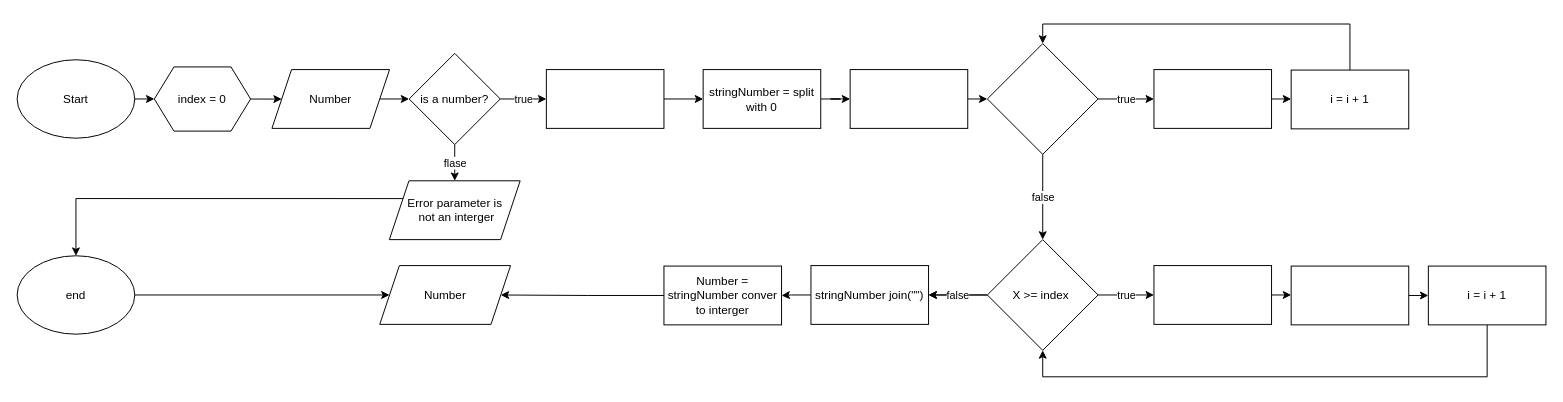
This 1563x402 diagram has some shape labels left out. The shapes that lost their labels are listed below. From the top down, each one's centre as x and y in pixels, then its label:
(604,98): stringNumber = number convert to string
(908,98): stringNumber .length =x
(1042,98): X > index
(1212,98): stirngNumber[i] split()
(1212,294): stringNumber[i] ascending sort
(1349,295): stirngNumber[I] join("")
